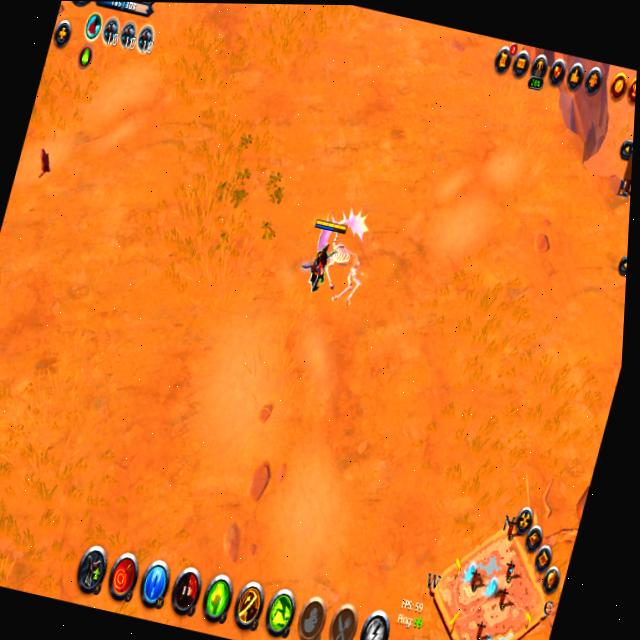red: (296, 215, 347, 296)
